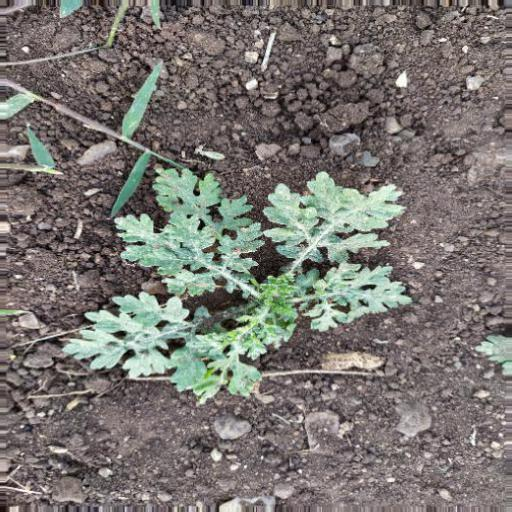weed: (76, 162, 413, 390)
